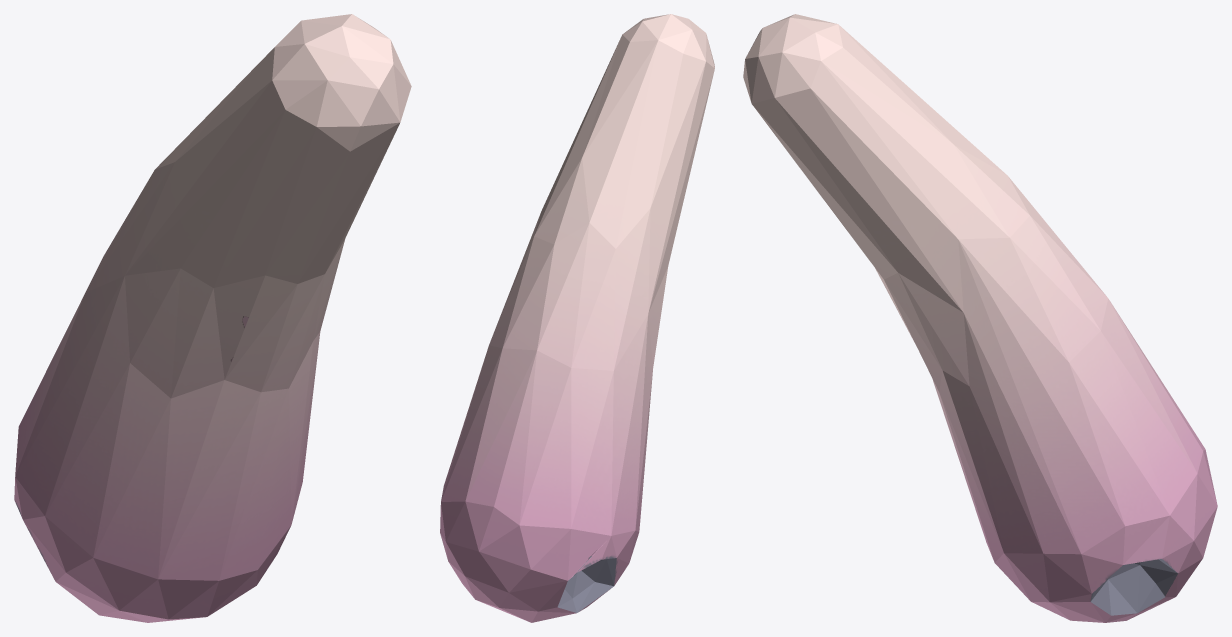
The model's file is drop_nose.dae.
3 views of the same model, side by side, from view 1: azimuth 30°, elevation 25°; view 2: azimuth 150°, elevation 25°; view 3: azimuth 270°, elevation 25° (orthographic). The views are drawn at different scales.
Parts seen in each view (by area): view 1: model_0.001; view 2: model_0.001; view 3: model_0.001.
Part boxes in pixels (x1=…): model_0.001: x1=14, y1=14, x2=411, y2=622; model_0.001: x1=440, y1=14, x2=714, y2=622; model_0.001: x1=743, y1=14, x2=1217, y2=622.
Size of the model in its own units: 0.2951 by 0.5903 by 0.8157.
Materials: 1 (1 with a texture image).
